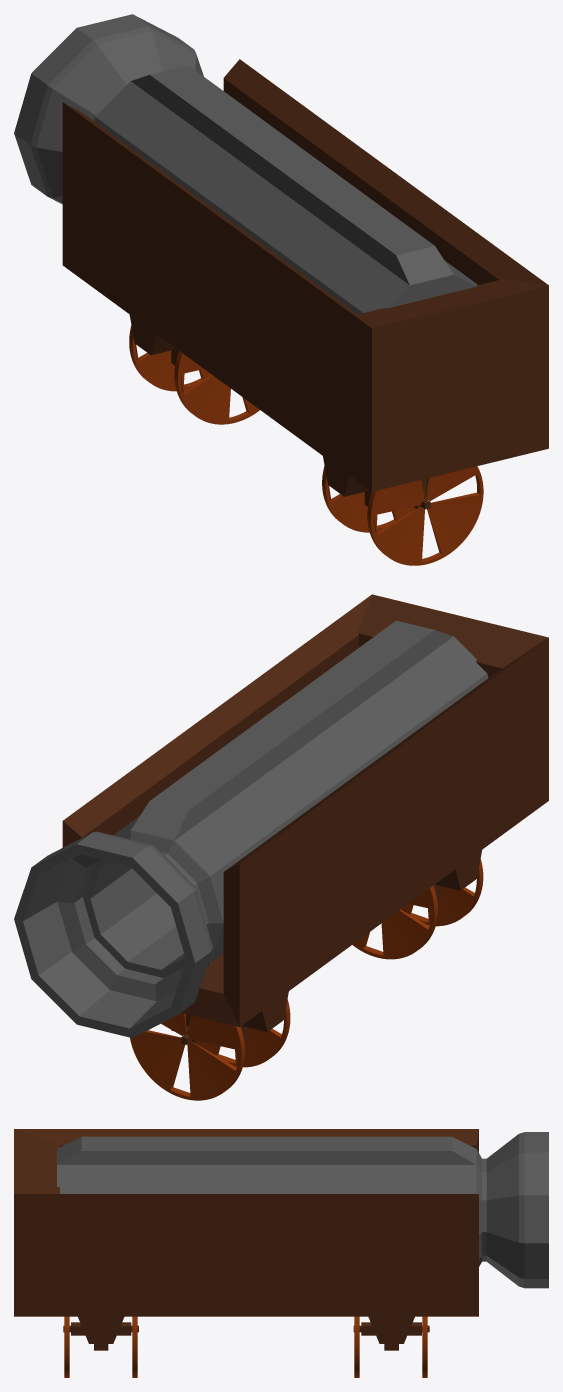
Rendered from Canon.fbx.
3 renders of one model, top to bottom at view 1: azimuth 30°, elevation 25°; view 2: azimuth 150°, elevation 25°; view 3: azimuth 270°, elevation 25°, orthographic. The views are drawn at different scales.
Visible parts, largest first — view 1: Cube, Cylinder, Cylinder.002, Cylinder.004, Cylinder.001, Cylinder.003; view 2: Cube, Cylinder, Cylinder.003, Cylinder.001, Cylinder.004, Cylinder.002; view 3: Cube, Cylinder, Cylinder.004, Cylinder.003, Cylinder.001, Cylinder.002.
Part boxes in pixels (bbox=[...]): Cube: bbox=[62, 59, 548, 509]; Cylinder: bbox=[14, 14, 477, 314]; Cylinder.002: bbox=[367, 466, 483, 565]; Cylinder.004: bbox=[174, 351, 259, 424]; Cylinder.001: bbox=[322, 466, 415, 532]; Cylinder.003: bbox=[129, 325, 211, 391]; Cube: bbox=[62, 594, 548, 1044]; Cylinder: bbox=[14, 620, 488, 1037]; Cylinder.003: bbox=[130, 1013, 244, 1100]; Cylinder.001: bbox=[352, 885, 437, 959]; Cylinder.004: bbox=[196, 999, 290, 1067]; Cylinder.002: bbox=[401, 859, 483, 926]; Cube: bbox=[14, 1129, 478, 1350]; Cylinder: bbox=[57, 1132, 548, 1288]; Cylinder.004: bbox=[354, 1316, 359, 1377]; Cylinder.003: bbox=[422, 1316, 427, 1377]; Cylinder.001: bbox=[132, 1316, 137, 1377]; Cylinder.002: bbox=[64, 1316, 69, 1377].
Bounding box in the file's own units: 205 × 332 × 697.
